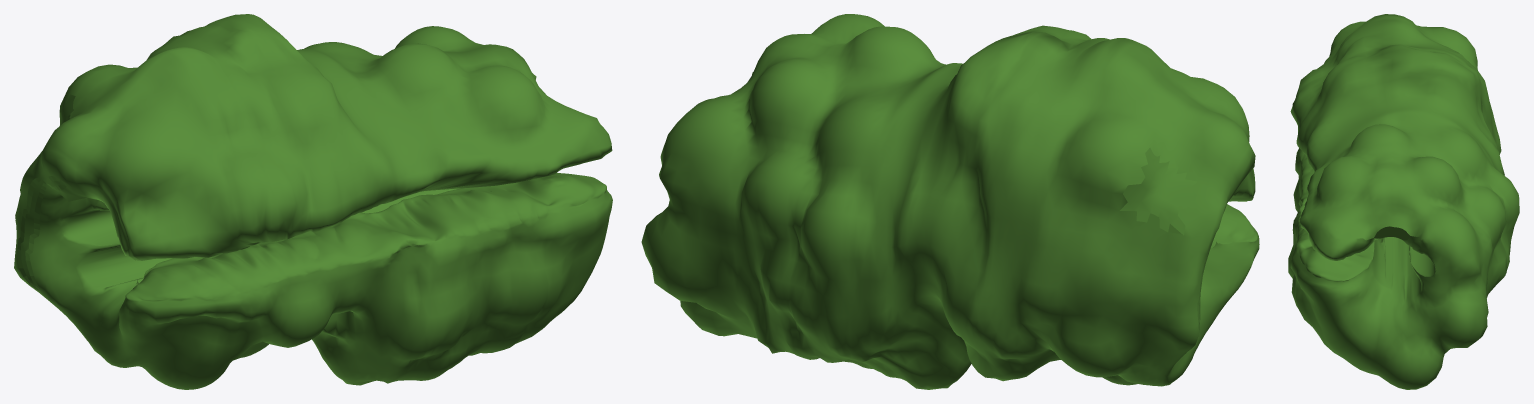
Rendered from RNA_Polymerase.fbx.
3 renders of one model, left to right at view 1: azimuth 30°, elevation 25°; view 2: azimuth 150°, elevation 25°; view 3: azimuth 270°, elevation 25°, orthographic. The views are drawn at different scales.
Visible parts, largest first — view 1: polySurface4; view 2: polySurface4; view 3: polySurface4.
Boxes of the visible parts, left/top/right/bottom form: polySurface4: left=14, top=14, right=612, bottom=389; polySurface4: left=641, top=14, right=1259, bottom=389; polySurface4: left=1288, top=14, right=1519, bottom=389.
Size of the model in its own units: 13.24 by 8.84 by 7.14.
